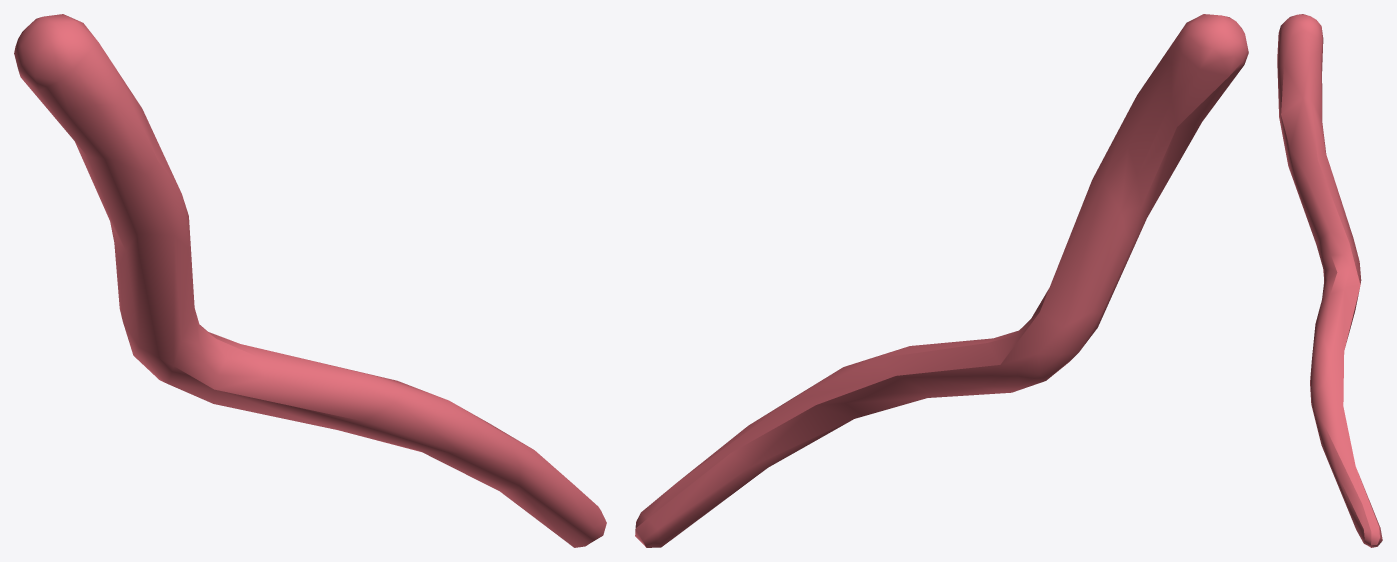
Rendered from fma3818_fj2674.glb.
3 views of the same model, side by side, from view 1: azimuth 30°, elevation 25°; view 2: azimuth 150°, elevation 25°; view 3: azimuth 270°, elevation 25° (orthographic). The views are drawn at different scales.
Visible parts, largest first — view 1: FMA3818_FJ2674; view 2: FMA3818_FJ2674; view 3: FMA3818_FJ2674.
Boxes of the visible parts, x1,y1,x2,y2 form: FMA3818_FJ2674: [14, 14, 606, 547]; FMA3818_FJ2674: [635, 14, 1248, 547]; FMA3818_FJ2674: [1277, 14, 1382, 547].
Bounding box in the file's own units: 0.0117 × 0.0124 × 0.00312.
